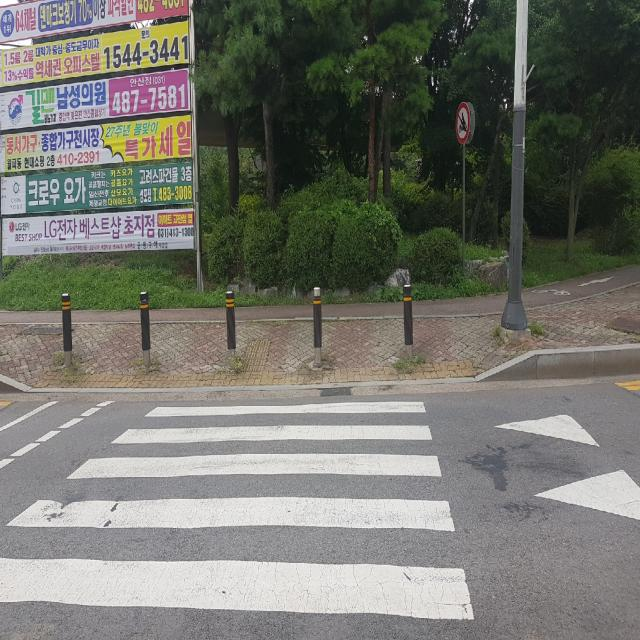횡단보도: (0, 401, 474, 621)
